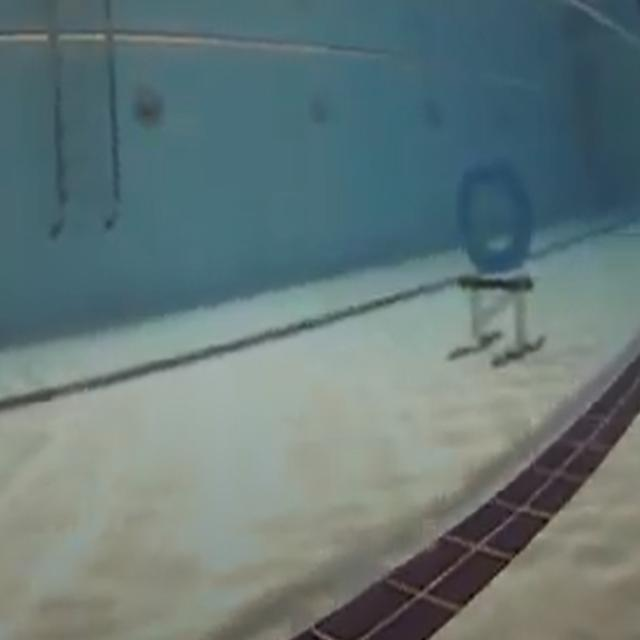Circle: (459, 159, 535, 270)
